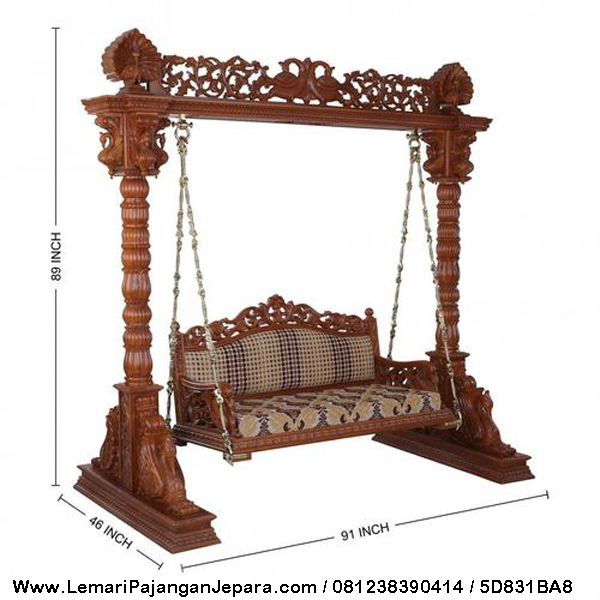Carving Chair: (173, 303, 444, 462)
